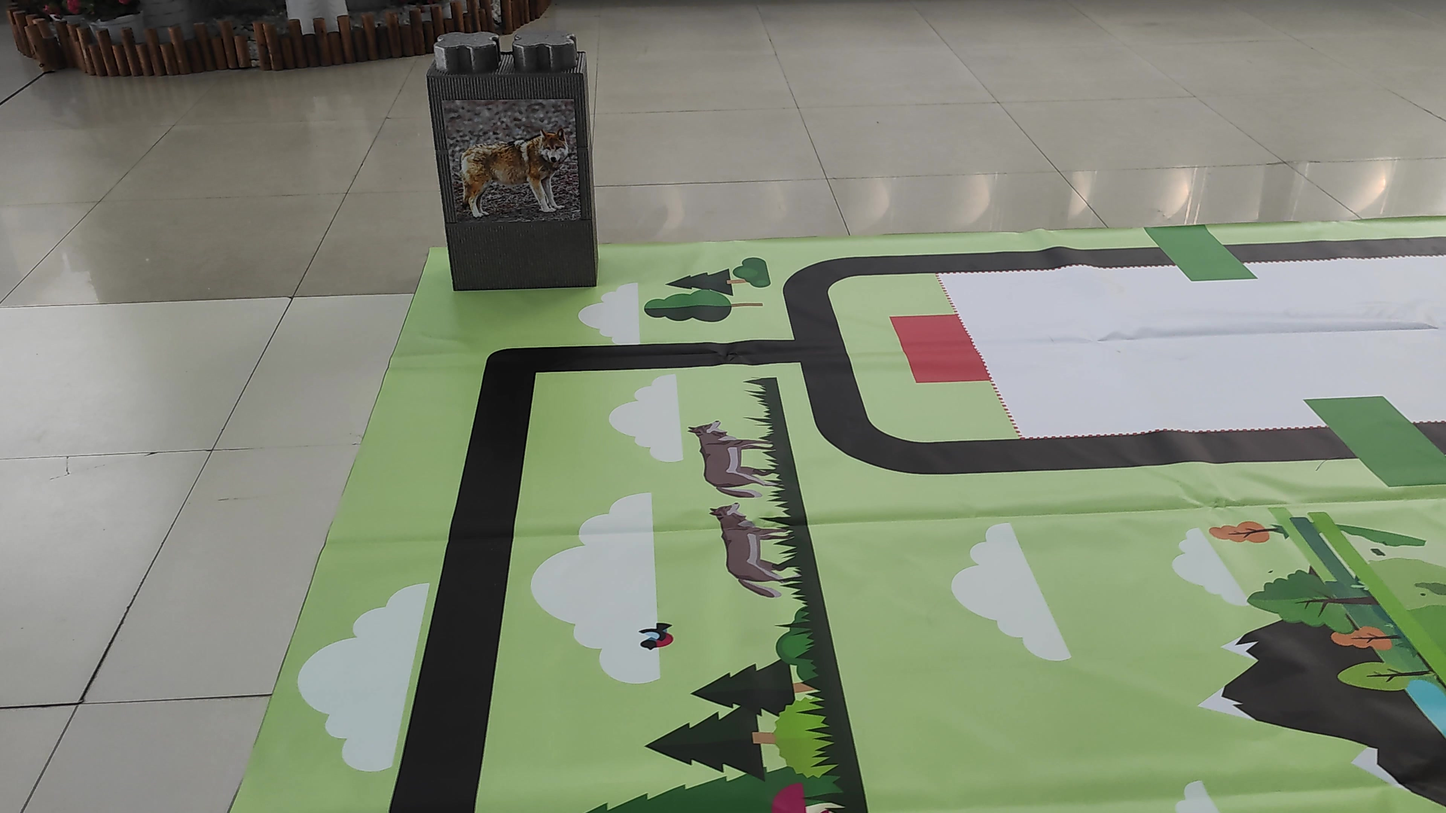wolf: (443, 117, 582, 235)
